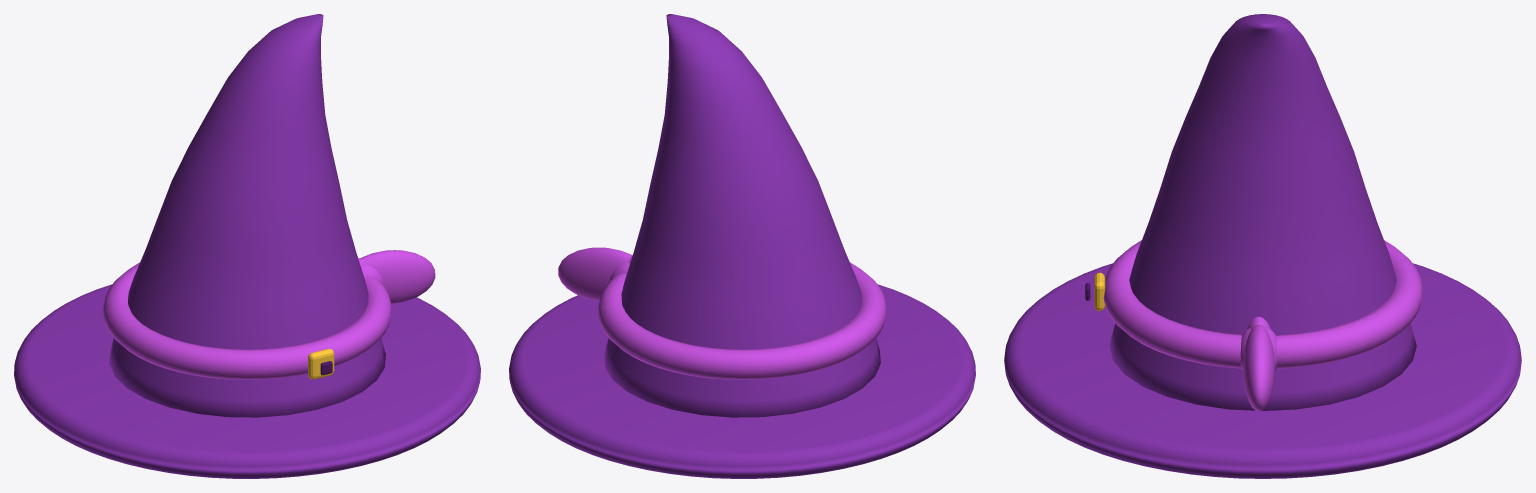
File: witch-hat.glb
3 renders of one model, left to right at view 1: azimuth 30°, elevation 25°; view 2: azimuth 150°, elevation 25°; view 3: azimuth 270°, elevation 25°, orthographic. The views are drawn at different scales.
Visible parts, largest first — view 1: Witch_Hat, Witch_Hat_Brim, Witch_Hat_Ribbon, Ribbon_Right, Golden_Buckle; view 2: Witch_Hat, Witch_Hat_Brim, Witch_Hat_Ribbon, Ribbon_Right; view 3: Witch_Hat, Witch_Hat_Brim, Witch_Hat_Ribbon, Ribbon_Right.
Boxes of the visible parts, bbox=[...] form: Witch_Hat: bbox=[109, 14, 385, 417]; Witch_Hat_Brim: bbox=[14, 284, 480, 478]; Witch_Hat_Ribbon: bbox=[103, 262, 391, 379]; Ribbon_Right: bbox=[361, 250, 435, 304]; Golden_Buckle: bbox=[308, 349, 334, 379]; Witch_Hat: bbox=[604, 14, 880, 417]; Witch_Hat_Brim: bbox=[509, 284, 975, 478]; Witch_Hat_Ribbon: bbox=[598, 262, 886, 379]; Ribbon_Right: bbox=[558, 247, 632, 300]; Witch_Hat: bbox=[1109, 14, 1416, 410]; Witch_Hat_Brim: bbox=[1004, 263, 1521, 478]; Witch_Hat_Ribbon: bbox=[1103, 240, 1423, 368]; Ribbon_Right: bbox=[1243, 324, 1274, 411].
Bounding box in the file's own units: 2.6 × 2.16 × 2.6.
